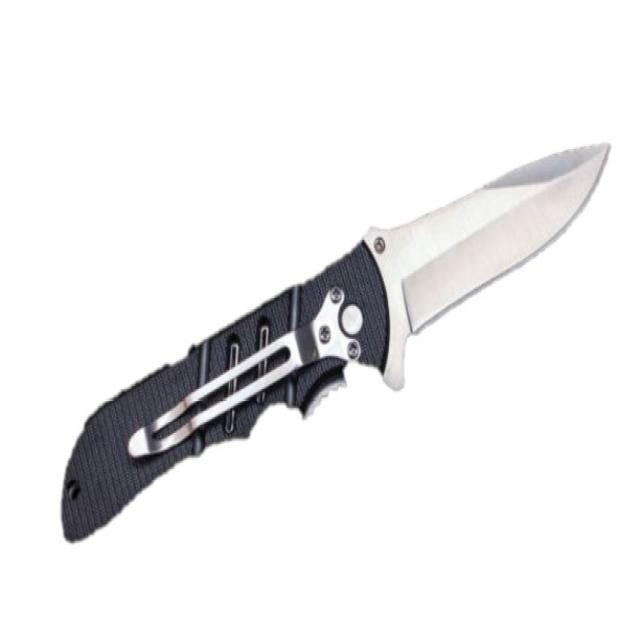knife: (48, 130, 609, 556)
